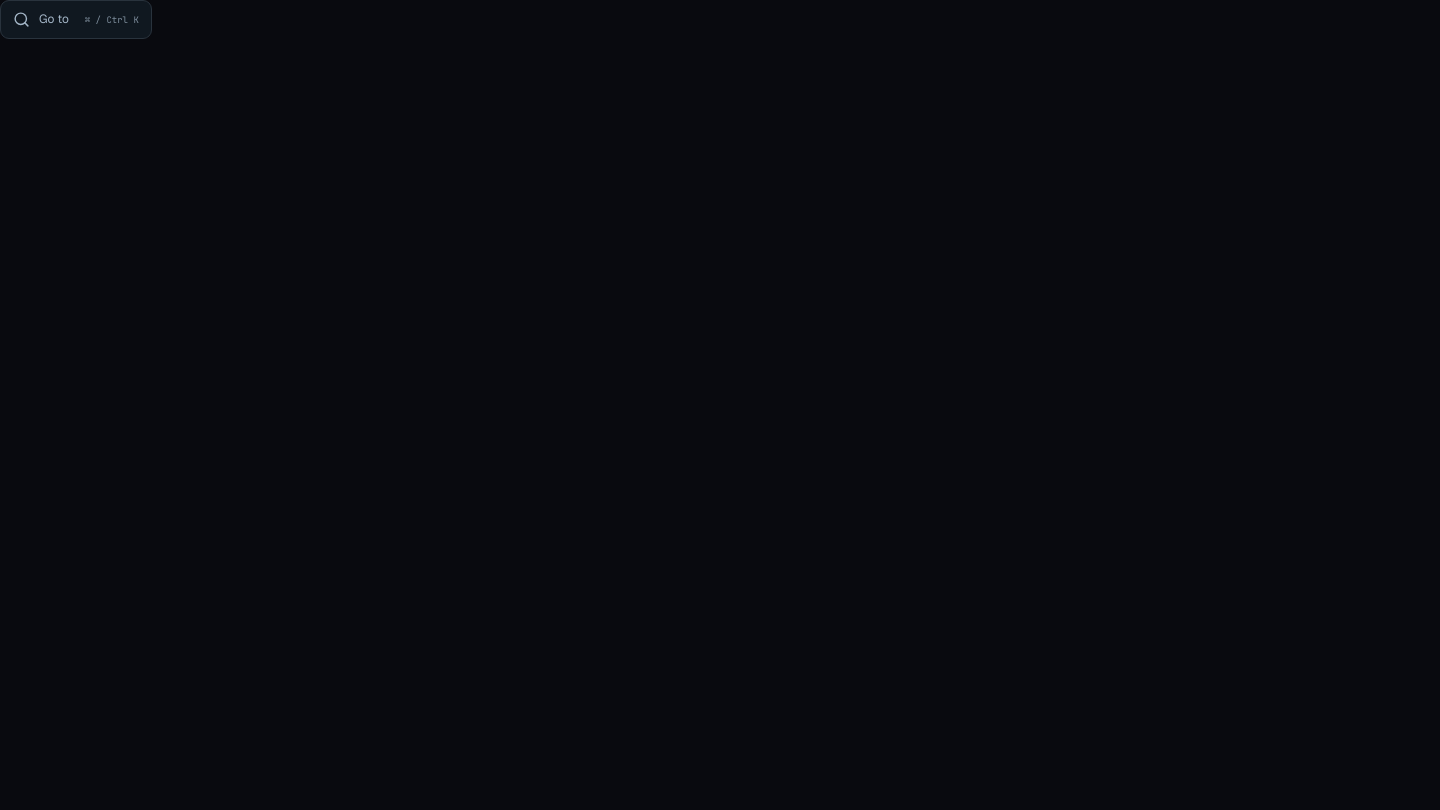
Test: quick navigation opens with Ctrl K, focuses search and executes navigation only
This screenshot has width=1440, height=810.
Press k
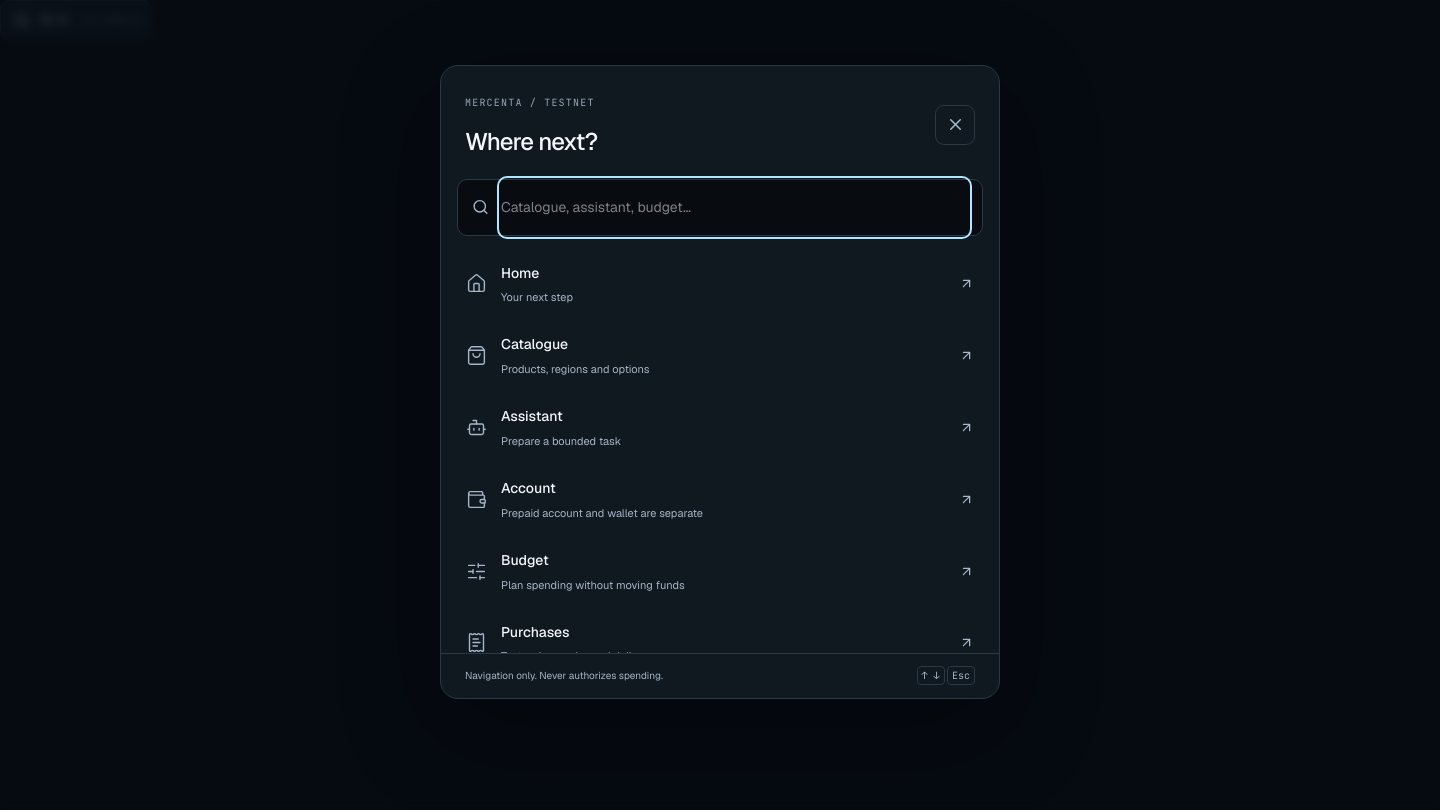
Check: the dialog is shown, box [440,65,1000,699]
Click the button "Catalogue Products, regions and options" at (535, 344), box [453,320,987,391]
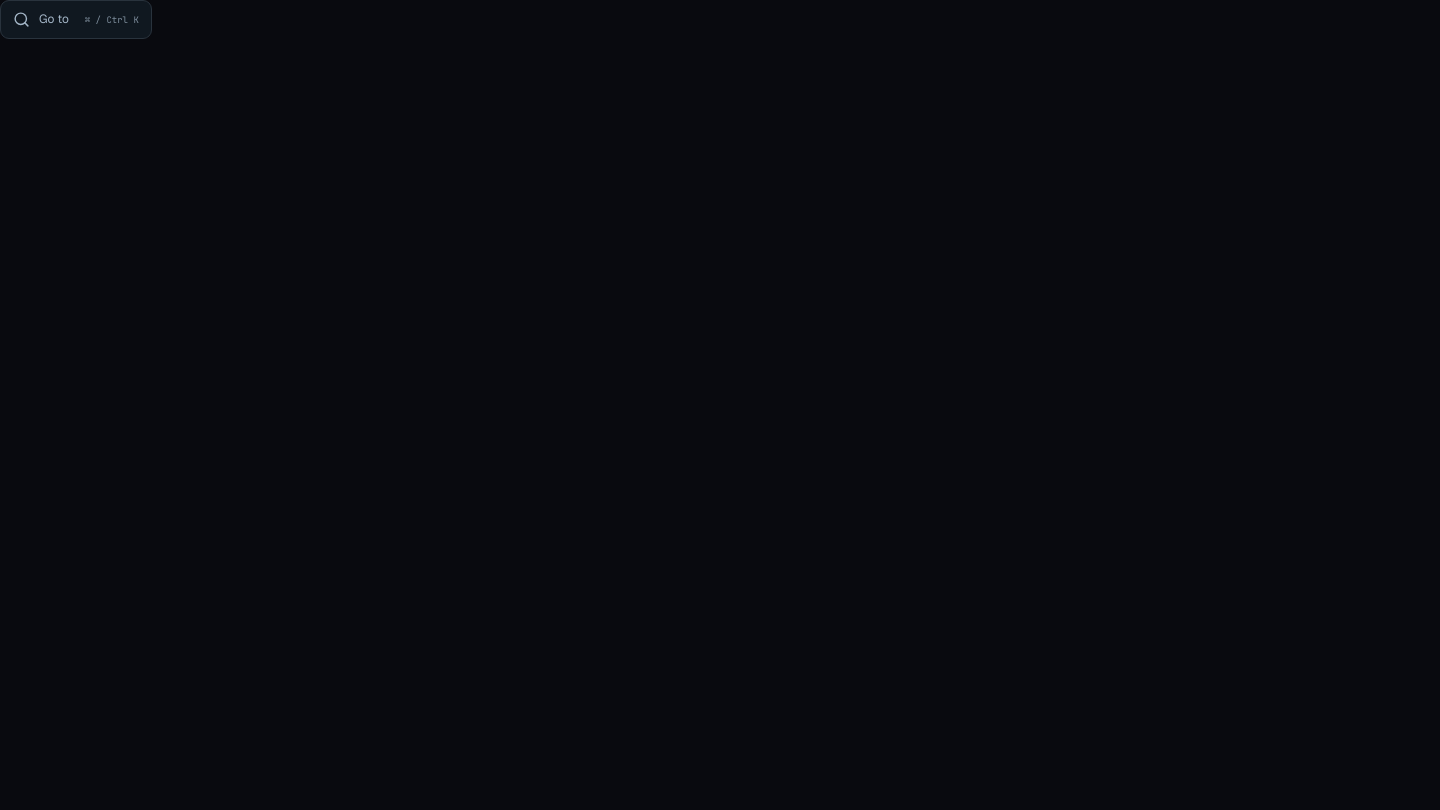
Check: the dialog is gone
